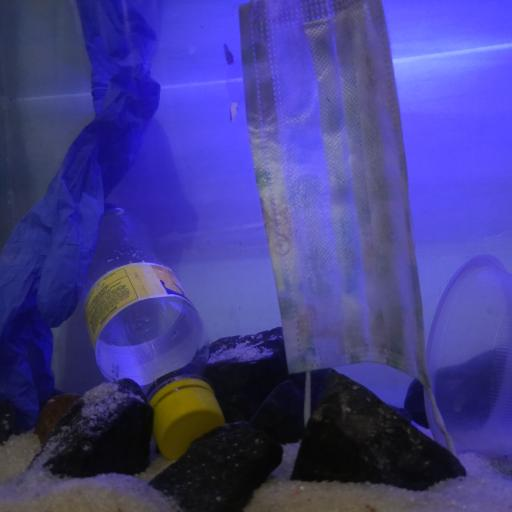bottle_cap: (153, 386, 226, 459)
glove: (2, 63, 161, 441)
mask: (238, 0, 451, 441)
plastic_bottle: (80, 203, 226, 459)
plastic_cup: (423, 252, 512, 463)
